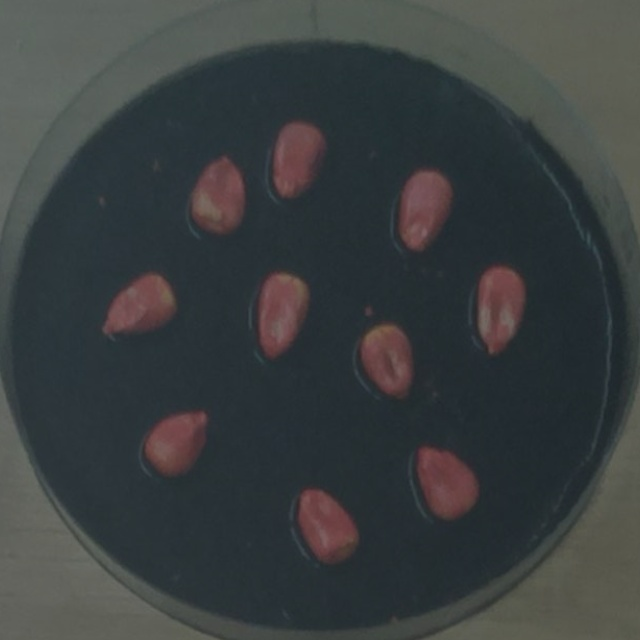Zea mays: (405, 437, 486, 528), (249, 264, 320, 367), (94, 266, 183, 347), (288, 481, 365, 573), (391, 163, 460, 263), (468, 259, 533, 362), (265, 114, 334, 209), (184, 149, 253, 243), (136, 404, 214, 486), (352, 317, 421, 408)
